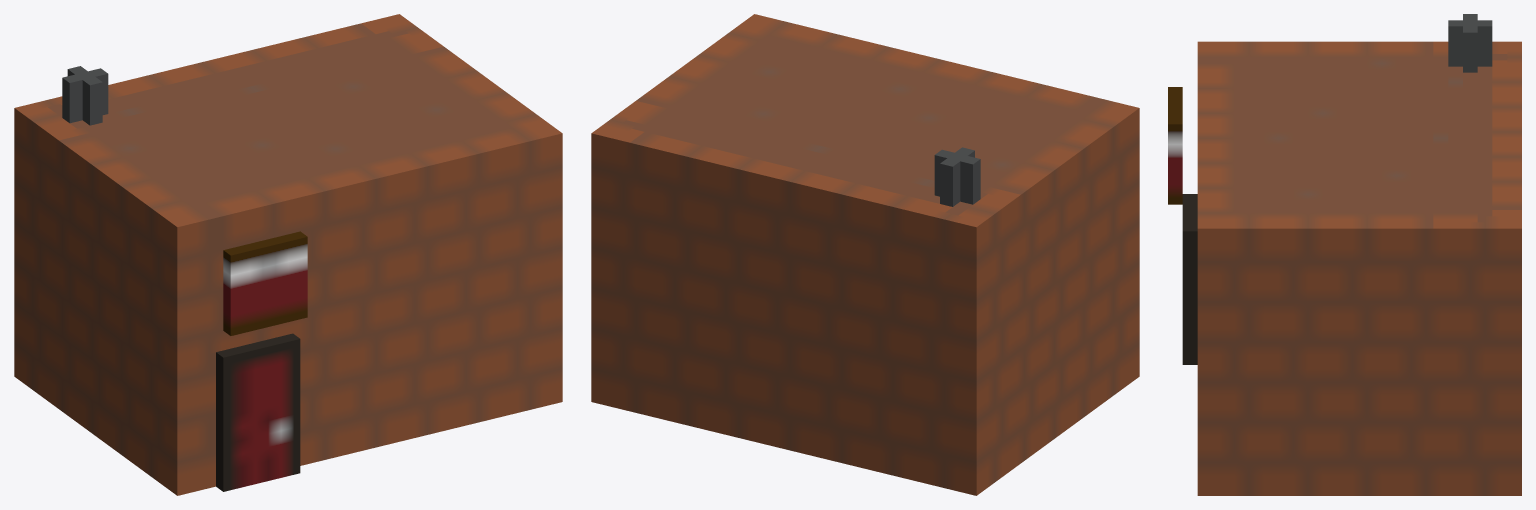
Rendered from Hotel1.dae.
3 views of the same model, side by side, from view 1: azimuth 30°, elevation 25°; view 2: azimuth 150°, elevation 25°; view 3: azimuth 270°, elevation 25° (orthographic).
Parts seen in each view (by area): view 1: Hotel1; view 2: Hotel1; view 3: Hotel1.
Boxes of the visible parts, x1,y1,x2,y2 form: Hotel1: (14, 14, 562, 495); Hotel1: (591, 14, 1139, 495); Hotel1: (1168, 14, 1521, 495).
Bounding box in the file's own units: 30 × 23 × 24.
1 material, 1 textured.
